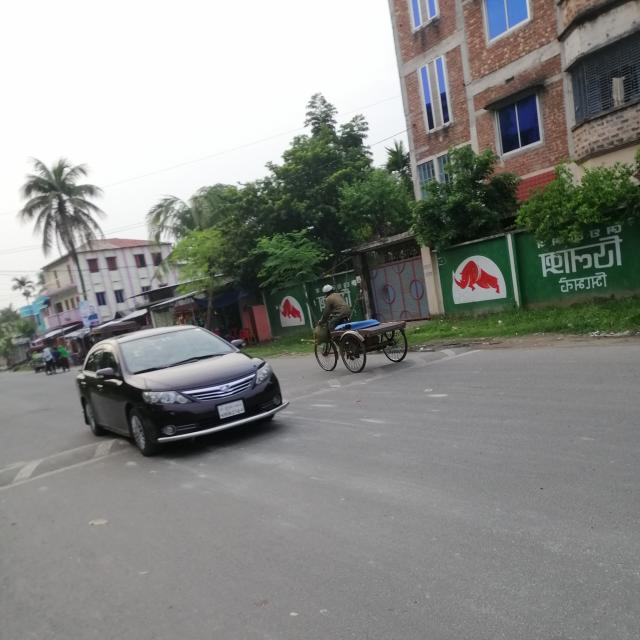Car: (68, 316, 294, 460)
